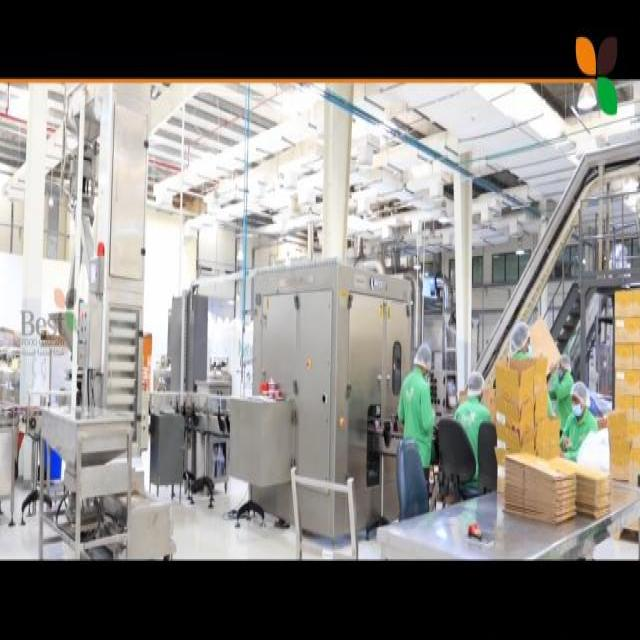hairnet: (508, 323, 530, 352), (413, 344, 434, 370), (573, 381, 591, 408), (464, 372, 484, 394), (558, 352, 572, 372)
